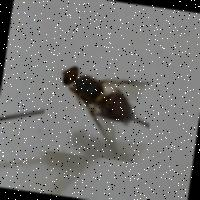Oriental-fruit-fly: (39, 54, 157, 164)
